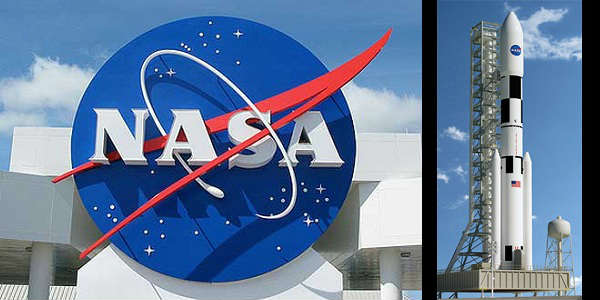NASA: (50, 14, 394, 283), (508, 43, 522, 57)
